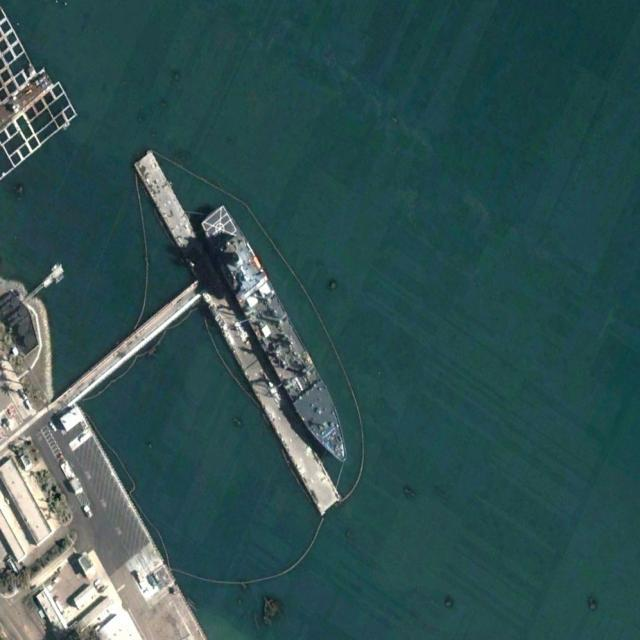Commander: (196, 198, 361, 477)
